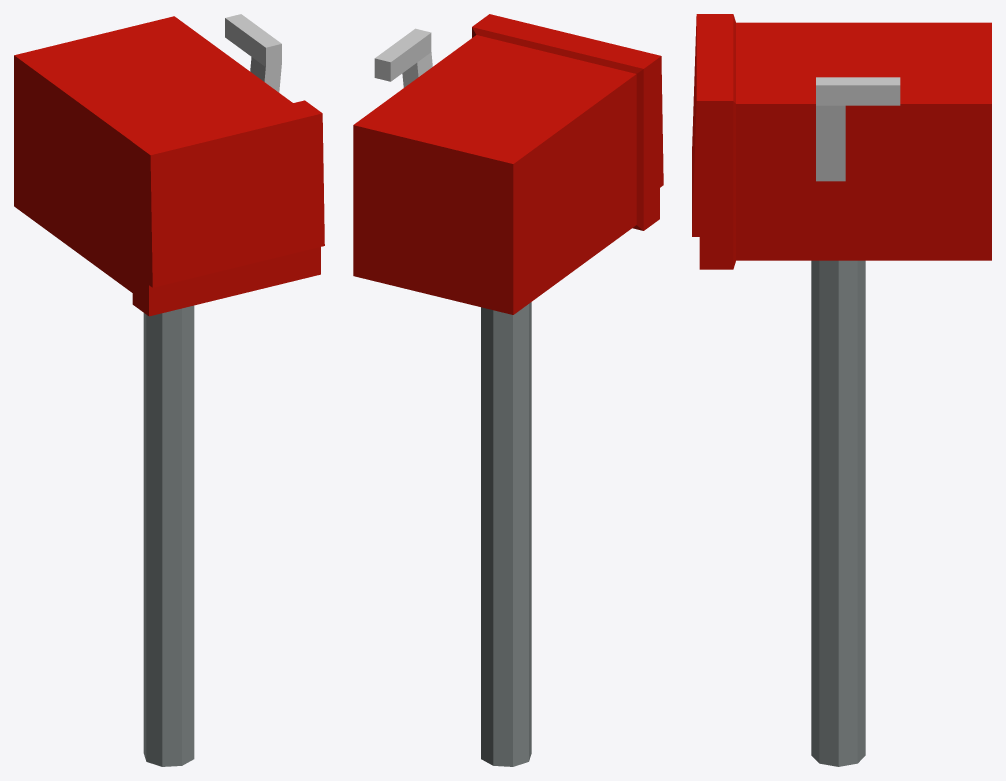
File: mailbox.fbx
3 views of the same model, side by side, from view 1: azimuth 30°, elevation 25°; view 2: azimuth 150°, elevation 25°; view 3: azimuth 270°, elevation 25° (orthographic). The views are drawn at different scales.
Visible parts, largest first — view 1: Cylinder; view 2: Cylinder; view 3: Cylinder.
Boxes of the visible parts, x1=… form: Cylinder: x1=14, y1=14, x2=324, y2=766; Cylinder: x1=353, y1=14, x2=663, y2=766; Cylinder: x1=692, y1=14, x2=991, y2=766.
Size of the model in its own units: 0.405 by 1.43 by 0.5367.
